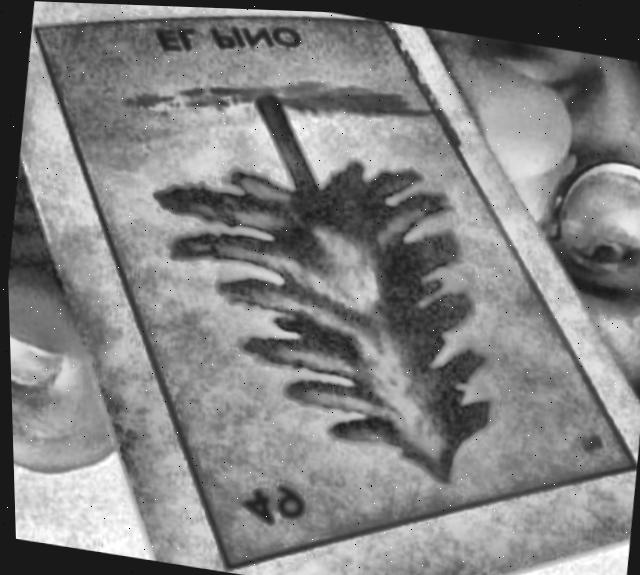El Pino: (36, 19, 631, 562)
